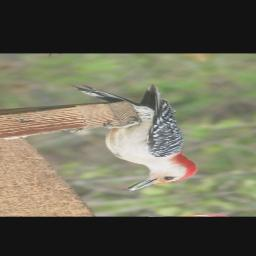Woodpecker: (42, 75, 228, 193)
